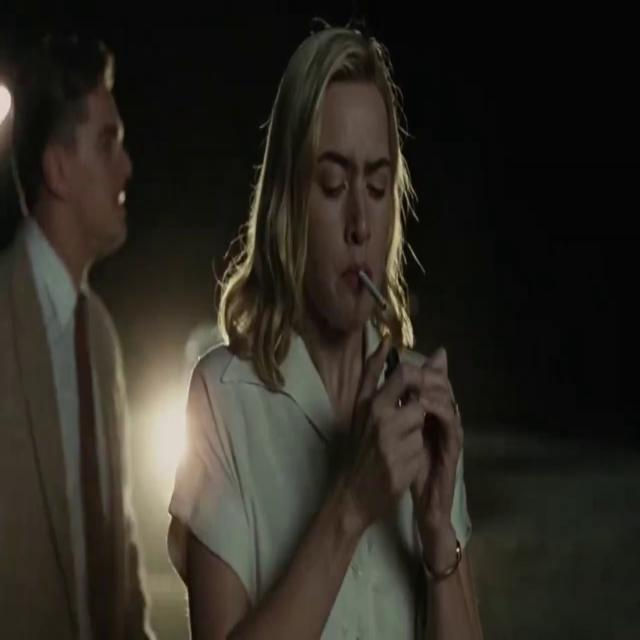Smooking: (354, 250, 394, 326)
